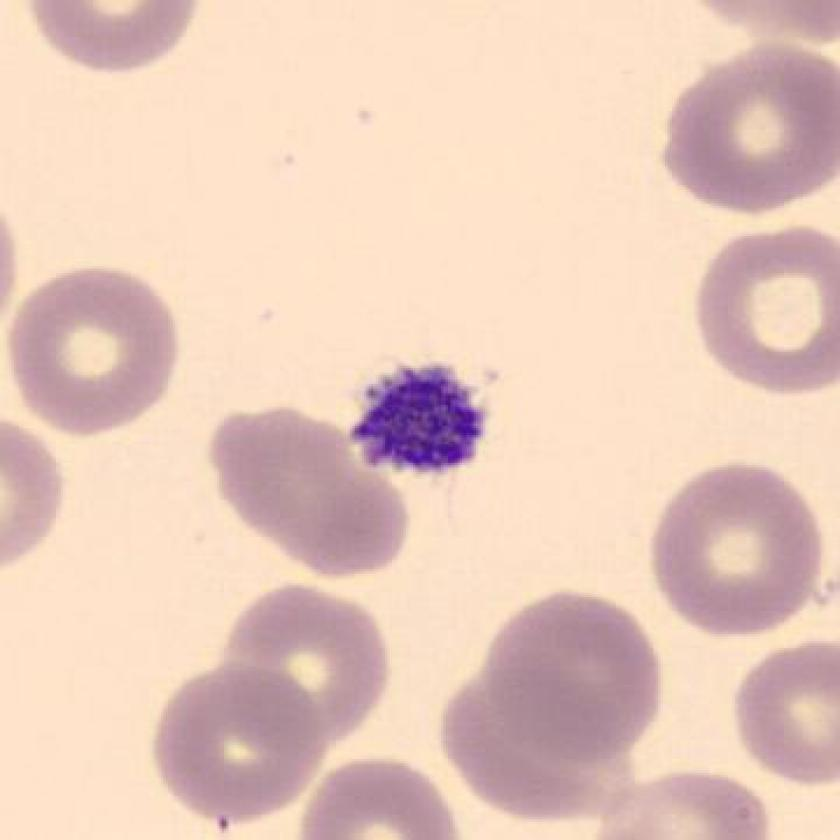platelets: (333, 346, 501, 487)
